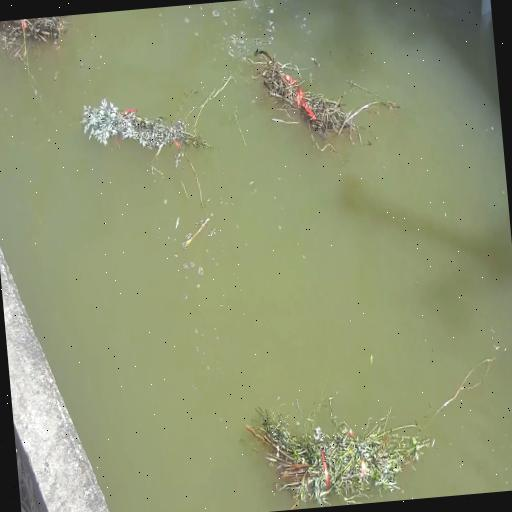twig: (256, 384, 444, 500), (252, 48, 372, 155), (78, 92, 218, 164), (0, 15, 75, 72)
